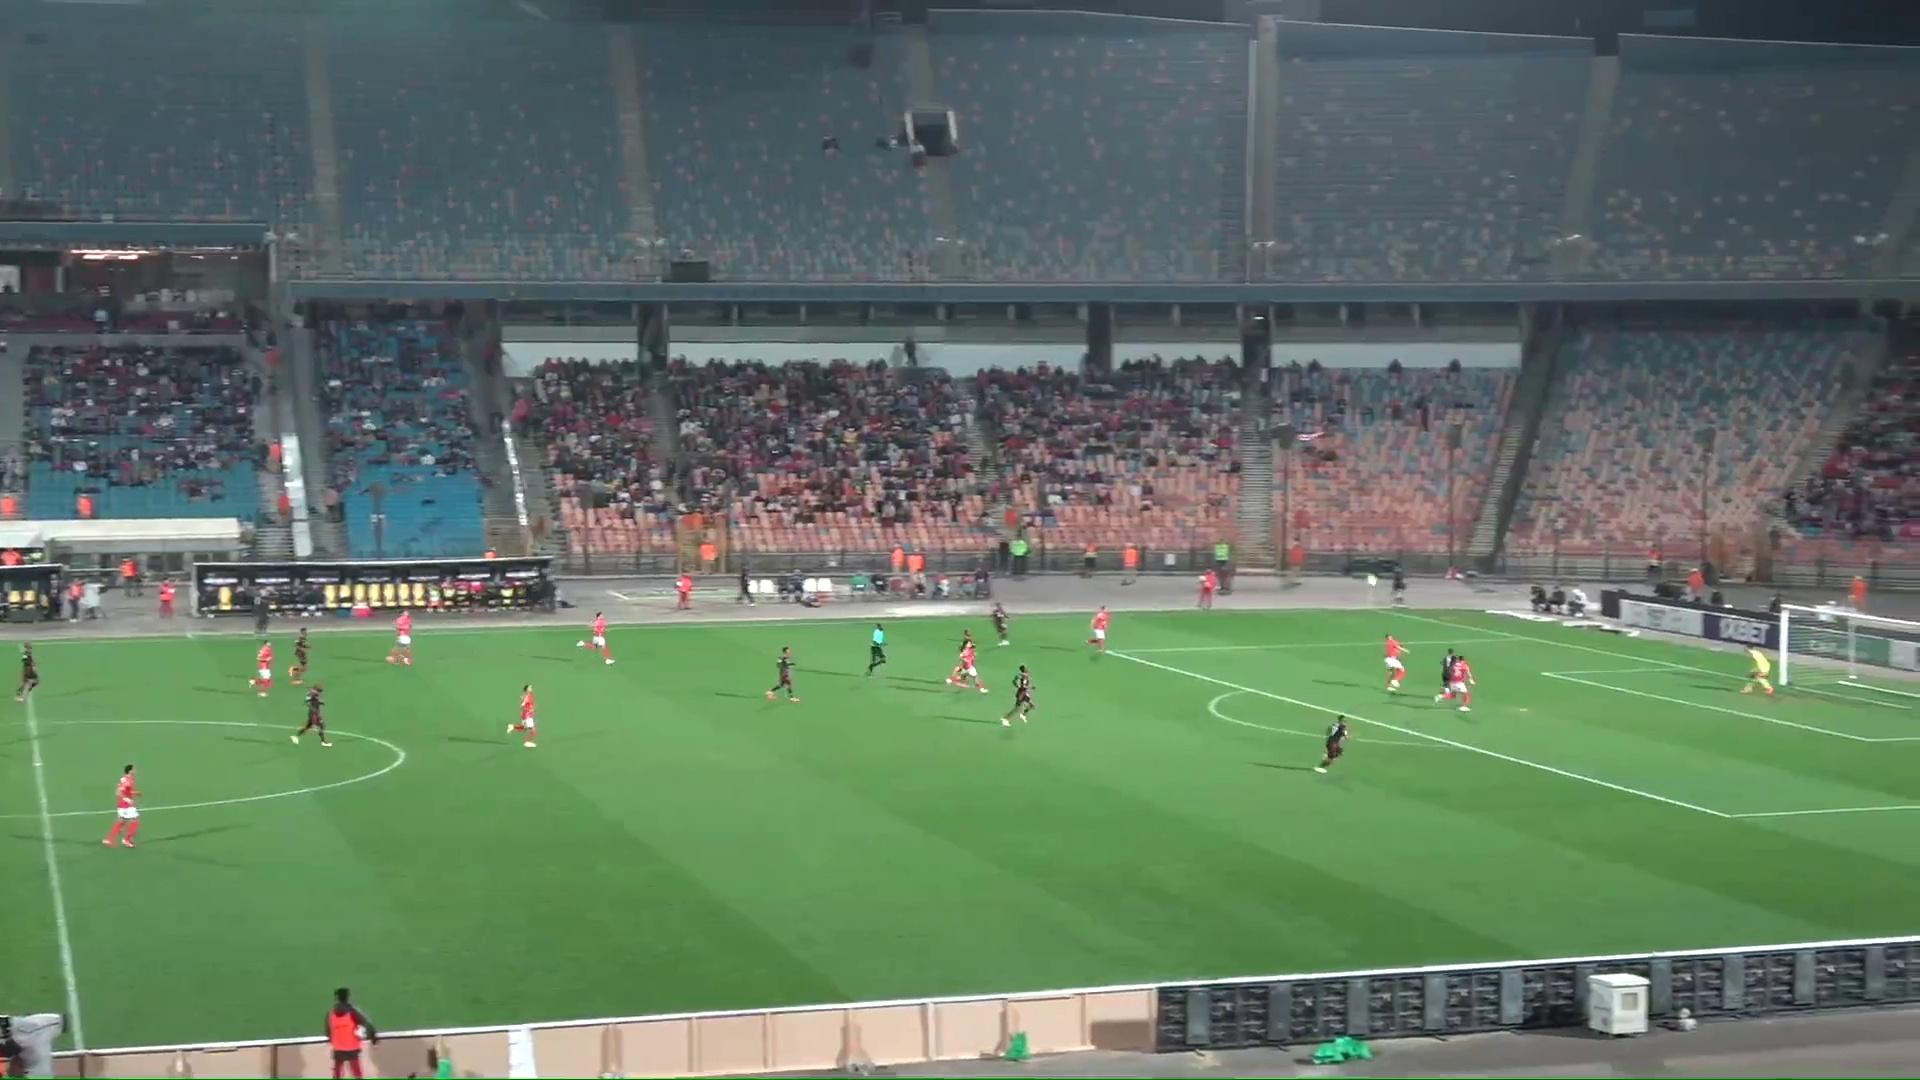GK1: (1739, 645, 1774, 696)
Refree: (864, 622, 889, 676)
Team1: (102, 765, 140, 847), (945, 634, 986, 692), (505, 684, 537, 748), (576, 613, 615, 665), (385, 611, 414, 665), (248, 640, 274, 696), (1448, 655, 1473, 711), (1383, 634, 1406, 694), (1087, 605, 1112, 651)
Team2: (290, 684, 332, 746), (1000, 665, 1036, 727), (1312, 713, 1349, 771), (764, 646, 800, 702), (15, 642, 40, 699), (287, 628, 311, 684), (1437, 647, 1461, 695), (988, 601, 1011, 646)
